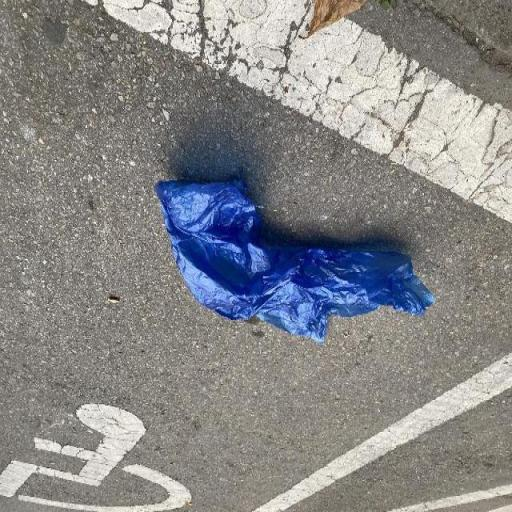plastic-bag: (154, 173, 439, 342)
